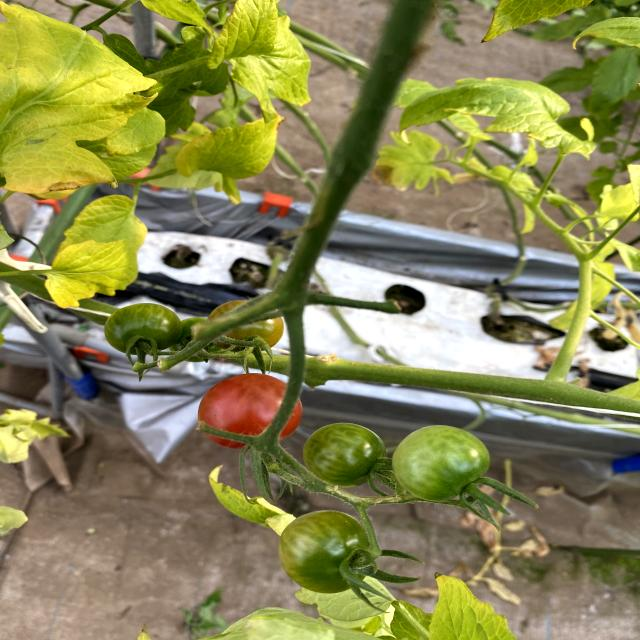ripe0: (277, 510, 378, 593), (393, 425, 491, 507), (306, 423, 386, 486), (104, 302, 182, 354)
ripe2: (199, 373, 304, 447)
